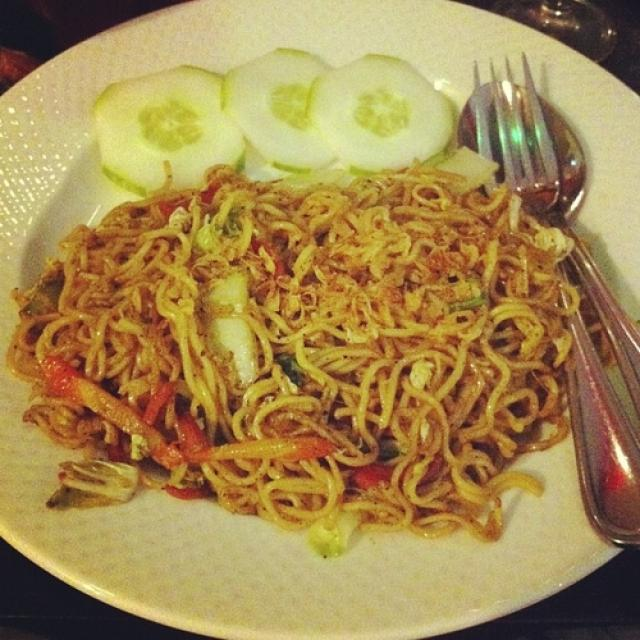面条主食: (9, 40, 612, 599)
